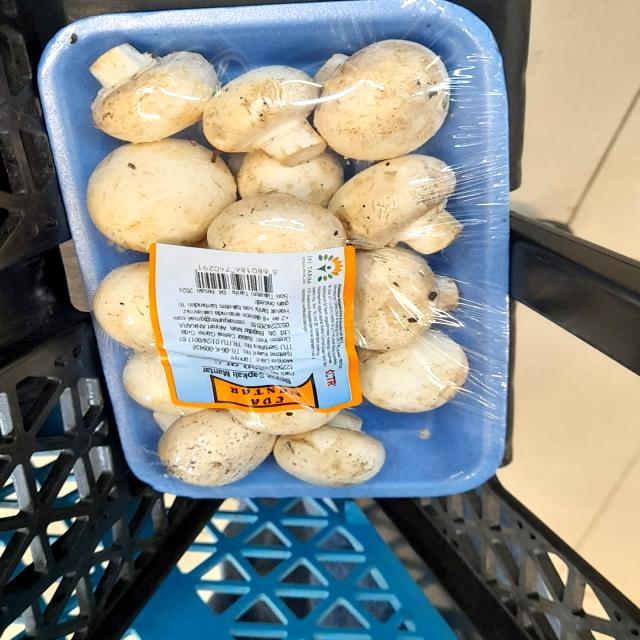mushroom: (296, 26, 468, 171), (75, 137, 244, 252), (321, 146, 475, 260), (196, 51, 337, 174), (68, 37, 221, 148), (146, 398, 274, 495)
